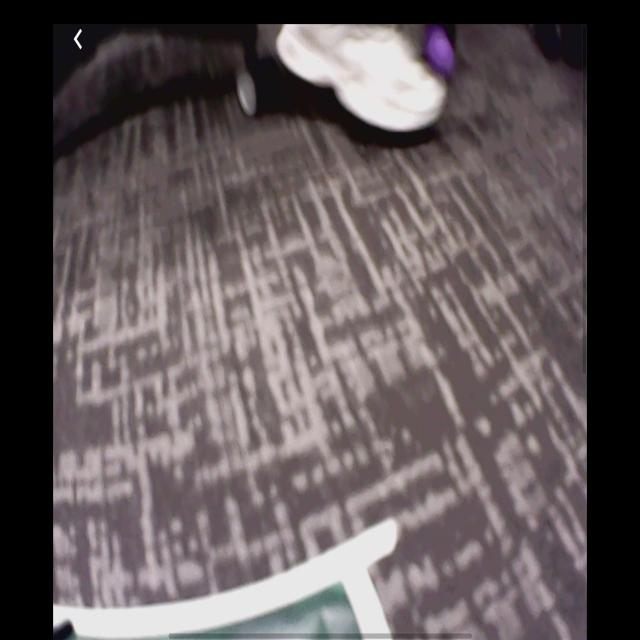ball: (428, 31, 455, 77)
